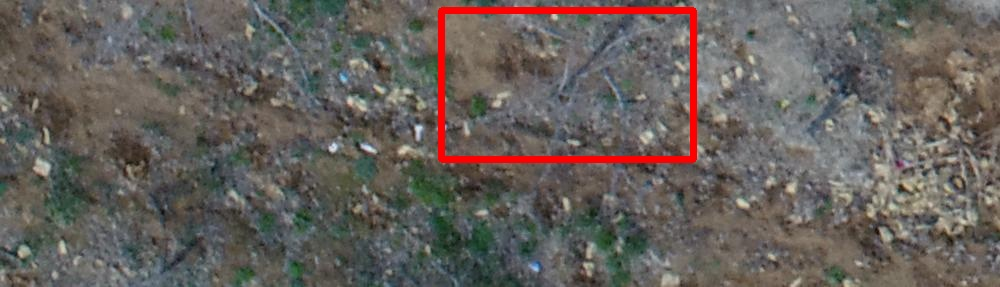apple: (441, 10, 693, 159)
